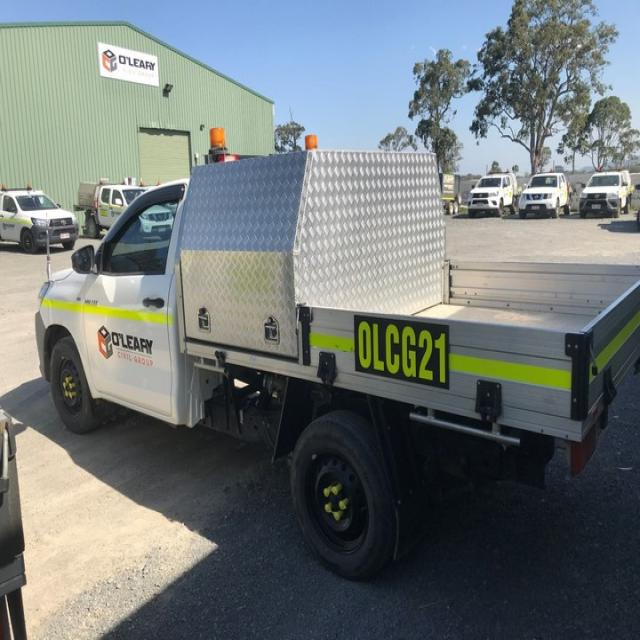light_vehicle: (32, 158, 639, 589), (0, 180, 78, 255), (459, 165, 514, 224), (581, 162, 633, 222), (516, 167, 570, 222)
